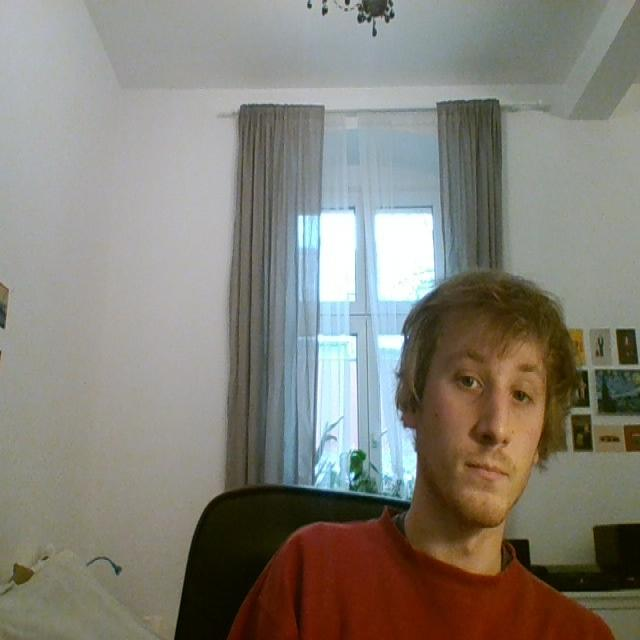eye: (448, 366, 487, 399), (506, 381, 535, 411)
gaze: (463, 376, 474, 387), (516, 391, 525, 402)
